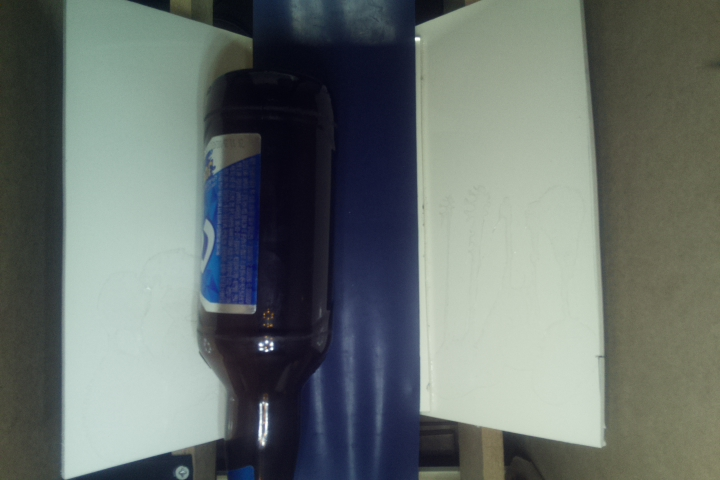makju: (195, 71, 336, 480)
